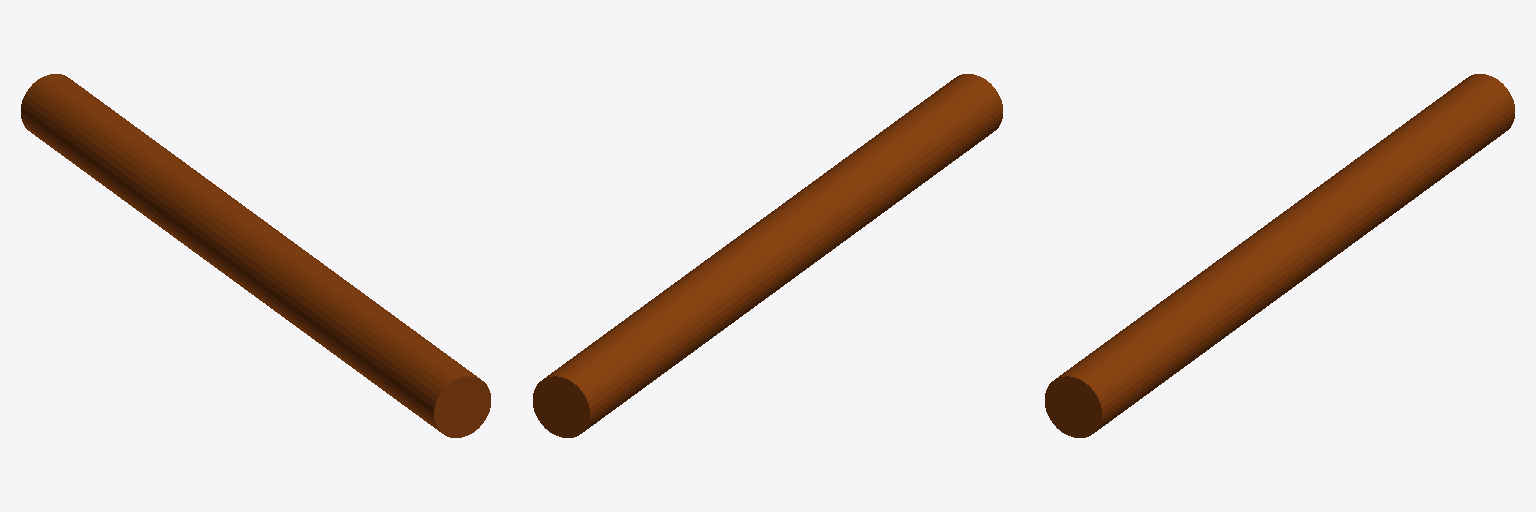
URDF robot description (cylinder):
<?xml version="1.0" ?>
<!-- =================================================================================== -->
<!-- |    This document was autogenerated by xacro from cylinder.xacro                 | -->
<!-- |    EDITING THIS FILE BY HAND IS NOT RECOMMENDED                                 | -->
<!-- =================================================================================== -->
<robot name="cylinder">
  <link name="world"/>
  <link name="base">
    <visual>
      <origin rpy="1.57079633 0 0" xyz="0 0 0"/>
      <geometry>
        <cylinder length="7.07106781185" radius="0.285"/>
      </geometry>
      <material name="cylinder_material">
        <color rgba="0.545 0.271 0.075 1.0"/>
        <texture filename="../textures/tree_bark.jpg"/>
      </material>
    </visual>
    <collision>
      <origin rpy="1.57079633 0 0" xyz="0 0 0"/>
      <geometry>
        <cylinder length="7.07106781185" radius="0.285"/>
      </geometry>
    </collision>
    <inertial>
      <origin rpy="0 0 0" xyz="0 0 0"/>
      <mass value="1"/>
      <inertia ixx="4.186972916648429" ixy="0.0" ixz="0.0" iyy="4.186972916648429" iyz="0.0" izz="24.999999999890573"/>
    </inertial>
  </link>
  <joint name="base_joint" type="fixed">
    <parent link="world"/>
    <child link="base"/>
    <origin rpy="0 0 0" xyz="0.0 0.0 0.0"/>
  </joint>
</robot>

--- Render facts (derived) ---
3 views of the same robot in one strip: view 1: azimuth 30°, elevation 25°; view 2: azimuth 150°, elevation 25°; view 3: azimuth 330°, elevation 25° (orthographic).
Robot: cylinder — 2 links, 1 joints (1 fixed); root link world; default pose: all joints at 0.
Links seen in each view (by area): view 1: base; view 2: base; view 3: base.
Link boxes in pixels (left/top/right/bottom): base: left=21, top=74, right=490, bottom=437; base: left=533, top=74, right=1002, bottom=437; base: left=1045, top=74, right=1514, bottom=437.
Size in the robot's own frame: 0.57 by 7.07 by 0.57 metres.
Geometry: primitives only (box / cylinder / sphere), no mesh files.
